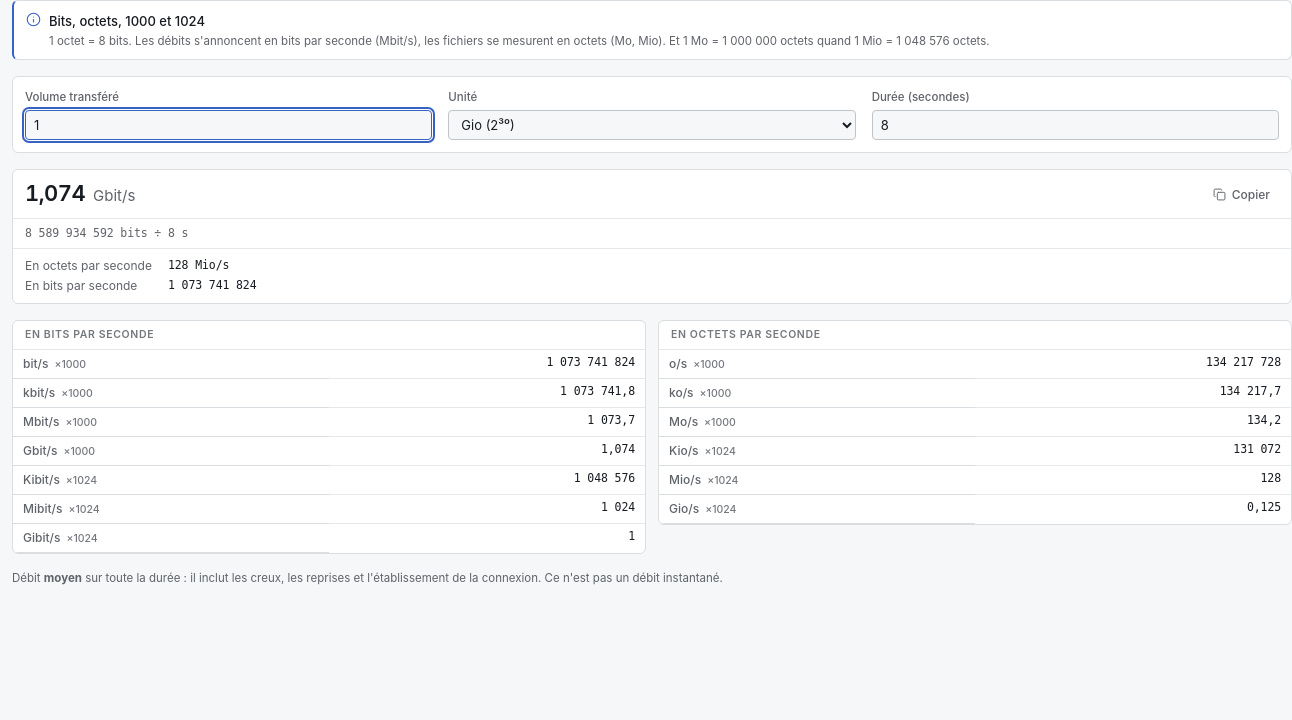
Test: bande passante et temps de transfert › refuse une durée nulle au lieu d'afficher l'infini
Replace the text in the field named "Durée en secondes" with "0" at (1075,125), box [872,110,1279,140]
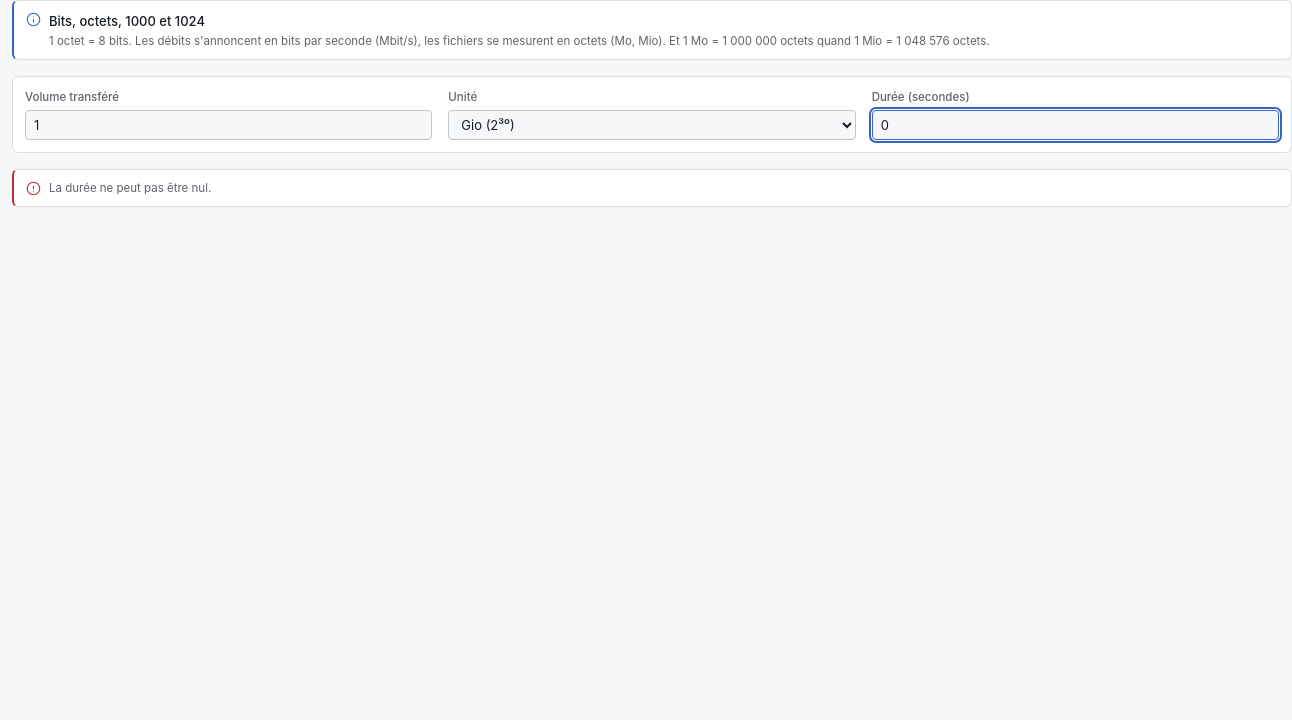
Expected: the text "La durée ne peut pas être nul." is shown, [49,181,211,195]
